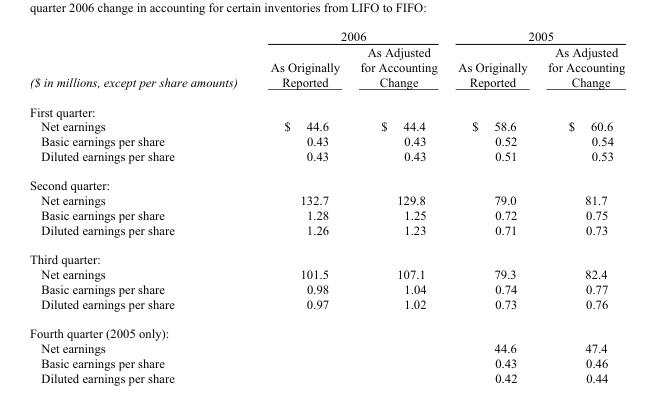table: (28, 28, 624, 384)
table column: (28, 28, 253, 384), (349, 28, 447, 384), (253, 28, 349, 384), (447, 28, 536, 384), (536, 28, 624, 384)
table column header: (28, 28, 624, 96)
table projected row header: (28, 96, 624, 118), (28, 170, 624, 192), (28, 244, 624, 266), (28, 318, 624, 340)
table row: (28, 43, 624, 96), (28, 96, 624, 118), (28, 148, 624, 170), (28, 170, 624, 192), (28, 222, 624, 244), (28, 244, 624, 266), (28, 296, 624, 318), (28, 318, 624, 340), (28, 28, 624, 43), (28, 118, 624, 133), (28, 133, 624, 148), (28, 192, 624, 207), (28, 207, 624, 222), (28, 266, 624, 281), (28, 281, 624, 296), (28, 340, 624, 355), (28, 369, 624, 384), (28, 355, 624, 369)
table spanning cell: (28, 28, 253, 96), (253, 28, 447, 43), (447, 28, 624, 43)
